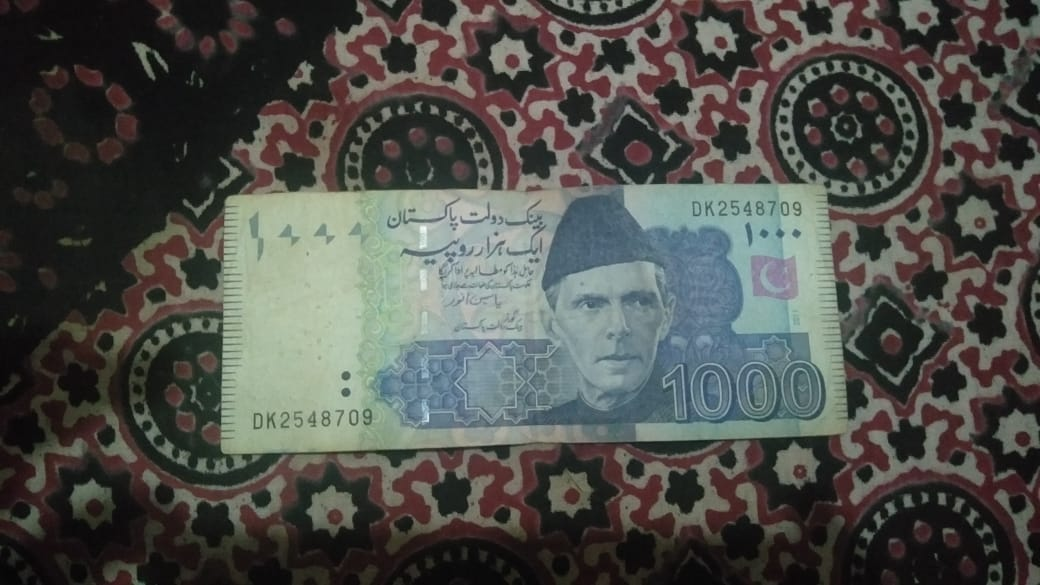1000 rupee: (204, 176, 868, 457)
